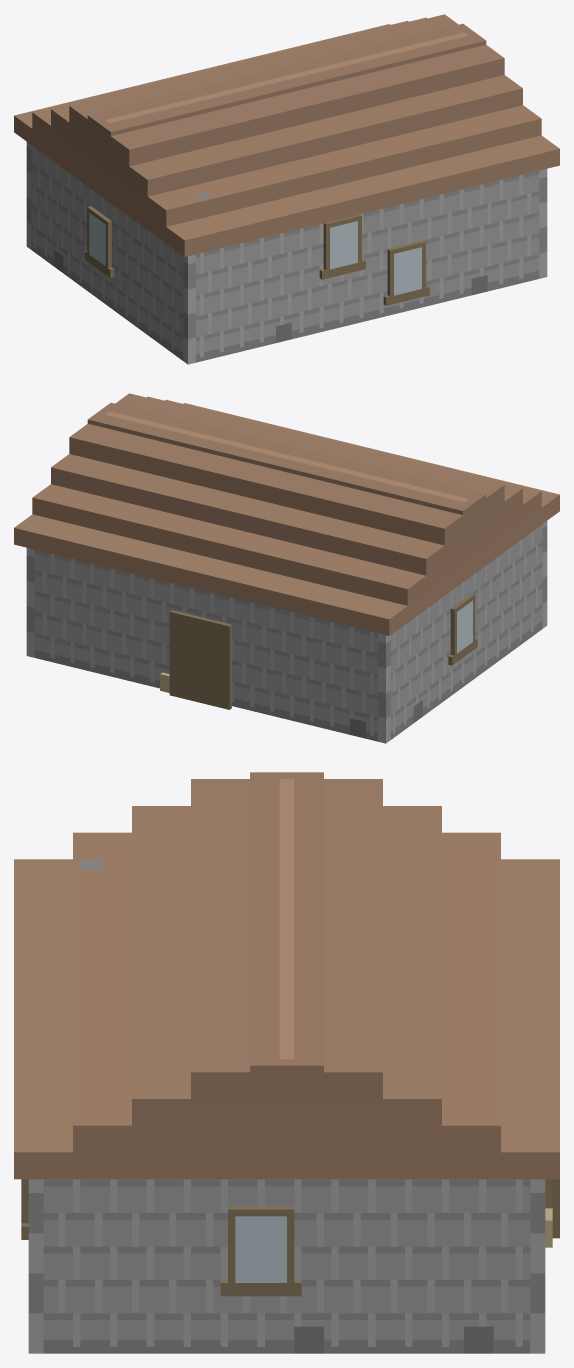
The model's file is cocina_comunal_04.glb.
The picture shows the model from 3 angles, top to bottom: view 1: azimuth 30°, elevation 25°; view 2: azimuth 150°, elevation 25°; view 3: azimuth 270°, elevation 25°; orthographic projection. The views are drawn at different scales.
Parts seen in each view (by area): view 1: cocina_comunal_04; view 2: cocina_comunal_04; view 3: cocina_comunal_04.
Part boxes in pixels (<box>): cocina_comunal_04: <box>14,14,559,364</box>; cocina_comunal_04: <box>14,393,559,743</box>; cocina_comunal_04: <box>14,772,559,1353</box>.
Bounding box in the file's own units: 9.4 × 4.4 × 7.4.
